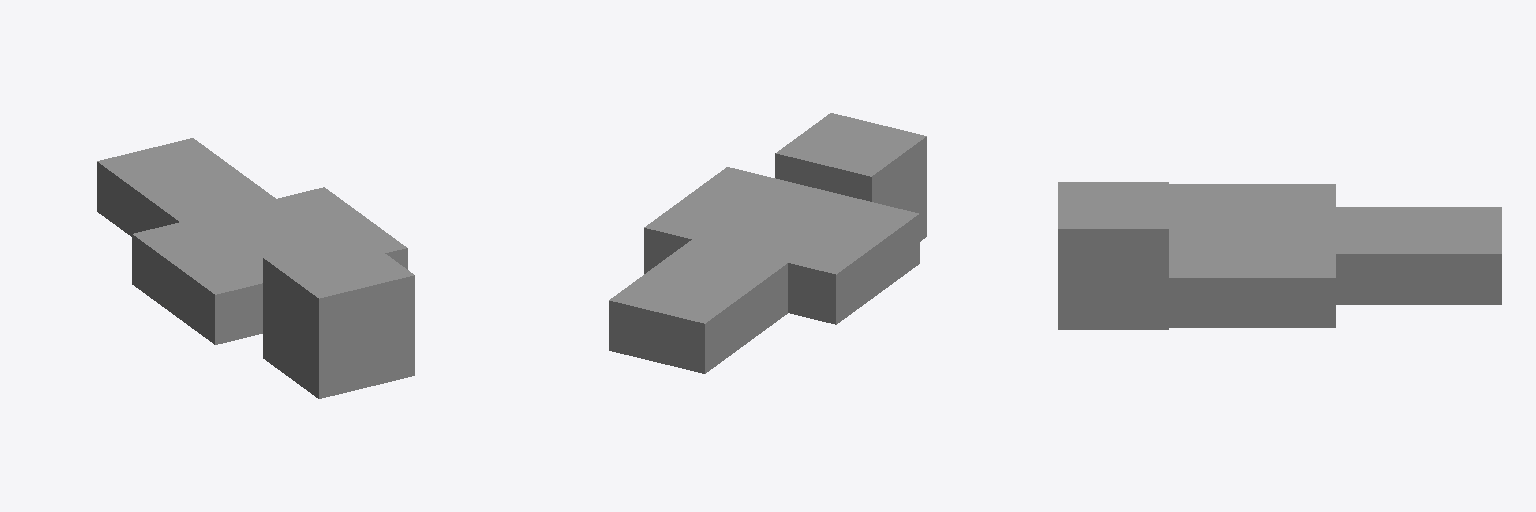
The model's file is steve.obj.
The picture shows the model from 3 angles: view 1: azimuth 30°, elevation 25°; view 2: azimuth 150°, elevation 25°; view 3: azimuth 270°, elevation 25°; orthographic projection.
Parts seen in each view (by area): view 1: Head_Character_Cube.006, Left_Arm_Character_Cube.003, Left_Leg_Character_Cube.001, Body_Character_Cube, Right_Leg_Character_Cube.002, Right_Arm_Character_Cube.004; view 2: Head_Character_Cube.006, Left_Arm_Character_Cube.003, Left_Leg_Character_Cube.001, Body_Character_Cube, Right_Leg_Character_Cube.002, Right_Arm_Character_Cube.004; view 3: Head_Character_Cube.006, Right_Arm_Character_Cube.004, Right_Leg_Character_Cube.002, Body_Character_Cube, Left_Leg_Character_Cube.001, Left_Arm_Character_Cube.003.
Boxes of the visible parts, box(x1,y1,x2,y2) form: Head_Character_Cube.006: box(263, 235, 414, 398); Left_Arm_Character_Cube.003: box(132, 222, 262, 344); Left_Leg_Character_Cube.001: box(97, 150, 227, 236); Body_Character_Cube: box(181, 199, 332, 282); Right_Leg_Character_Cube.002: box(145, 138, 275, 209); Right_Arm_Character_Cube.004: box(277, 187, 407, 269); Head_Character_Cube.006: box(775, 113, 926, 241); Left_Arm_Character_Cube.003: box(788, 202, 919, 324); Left_Leg_Character_Cube.001: box(657, 251, 787, 373); Body_Character_Cube: box(692, 178, 870, 262); Right_Leg_Character_Cube.002: box(609, 240, 739, 361); Right_Arm_Character_Cube.004: box(644, 167, 774, 273); Head_Character_Cube.006: box(1058, 182, 1168, 329); Right_Arm_Character_Cube.004: box(1169, 254, 1335, 327); Right_Leg_Character_Cube.002: box(1336, 231, 1501, 304); Body_Character_Cube: box(1169, 207, 1335, 253); Left_Leg_Character_Cube.001: box(1336, 207, 1501, 230); Left_Arm_Character_Cube.003: box(1169, 184, 1335, 206).
Bounding box in the file's own units: 0.9926 × 0.4963 × 1.99.